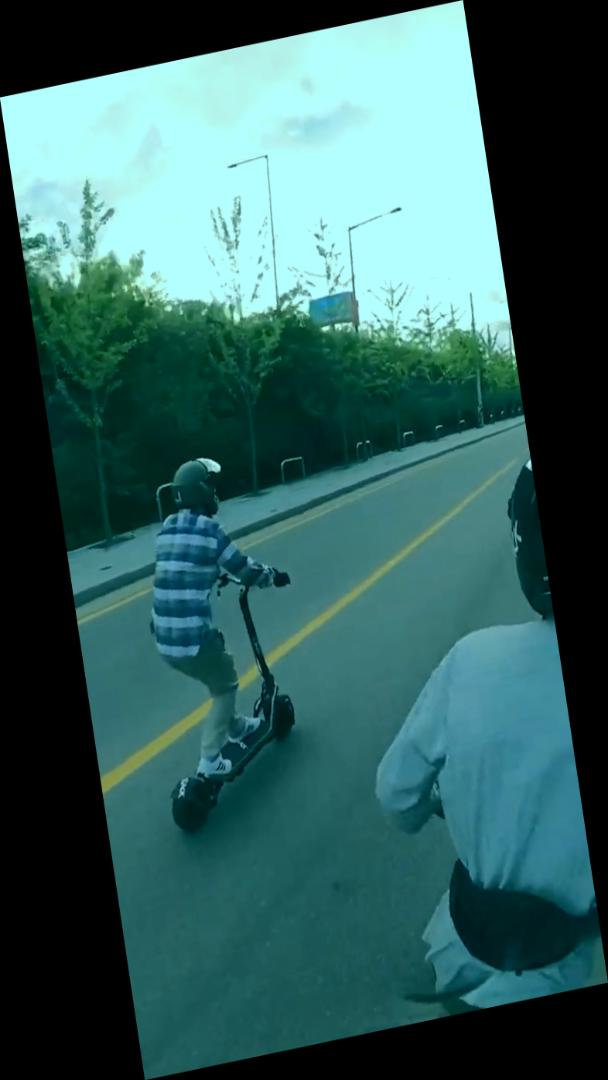helmet: (114, 432, 330, 849)
